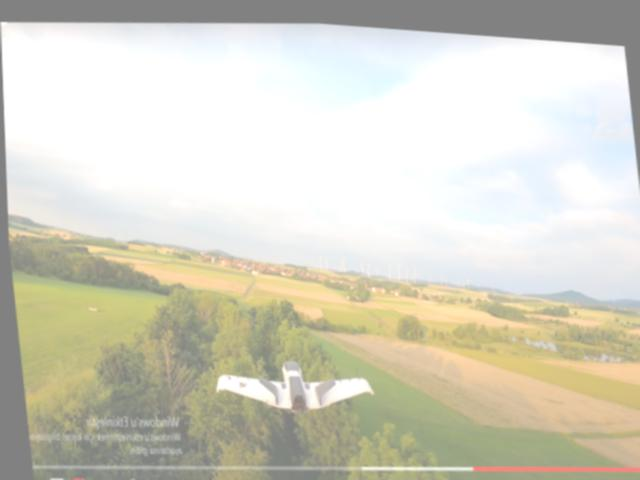plane: (209, 349, 372, 419)
